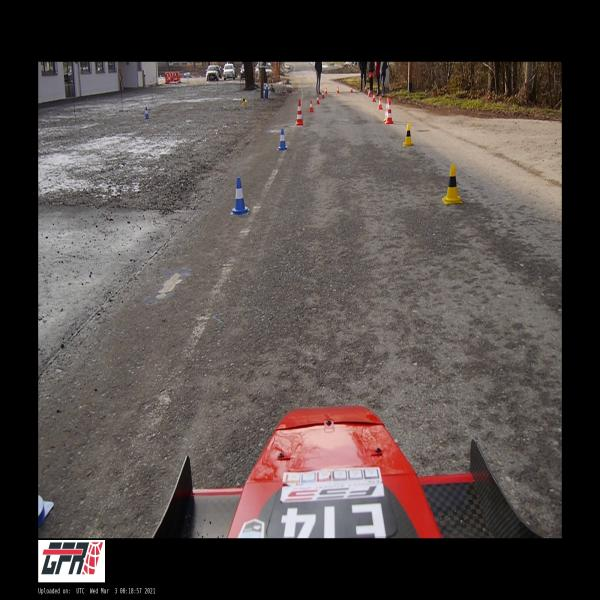blue_cone: (231, 178, 249, 215), (278, 129, 288, 150), (145, 107, 149, 118)
large_orange_cone: (296, 99, 304, 125), (385, 98, 393, 124)
orange_cone: (378, 96, 383, 110), (309, 101, 314, 112), (373, 91, 376, 102), (321, 90, 325, 98), (316, 95, 319, 104), (368, 88, 371, 97), (364, 85, 367, 92), (350, 86, 353, 92), (337, 86, 339, 93), (325, 87, 327, 94)
yellow_cone: (442, 164, 462, 204), (403, 124, 414, 146), (242, 95, 246, 105)
